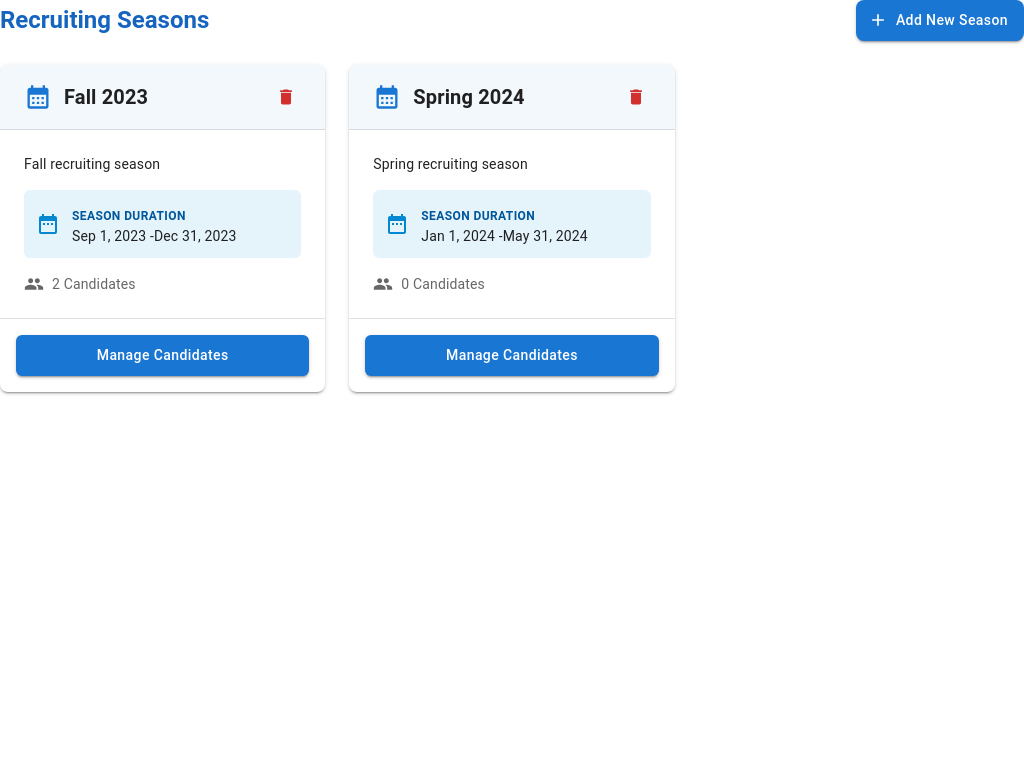
it: RecruitingSeasonManagement › opens create season dialog
# Use a more specific selector for the button
Click the button "Add New Season" at (940, 20), box [856,0,1023,40]
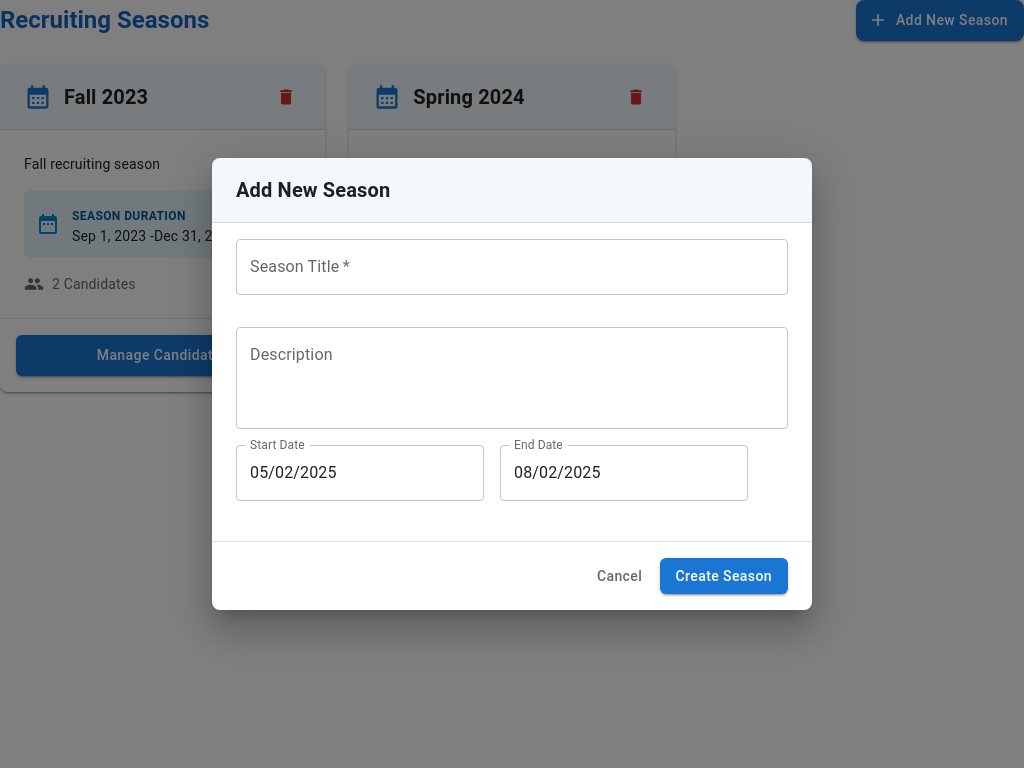
Check: the dialog is shown, box [212,158,812,610]
Check: the field labelled "Season Title *" is shown, box [236,239,788,295]
